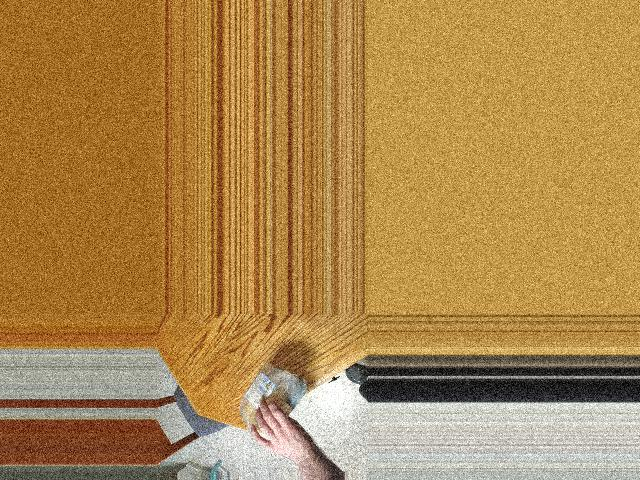cheese: (237, 366, 302, 445)
